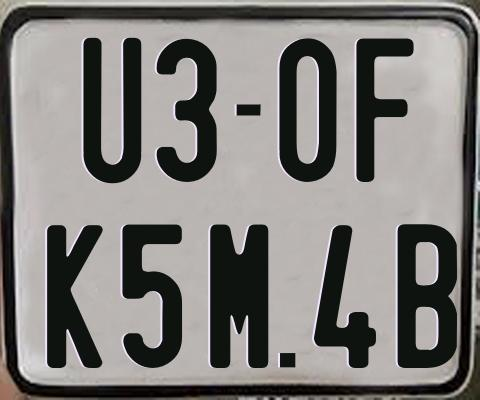0: (276, 36, 334, 180)
3: (157, 37, 223, 180)
4: (312, 225, 380, 369)
5: (120, 223, 183, 368)
B: (398, 223, 458, 371)
F: (354, 35, 414, 185)
K: (45, 224, 107, 373)
M: (209, 224, 269, 369)
U: (82, 37, 141, 188)
